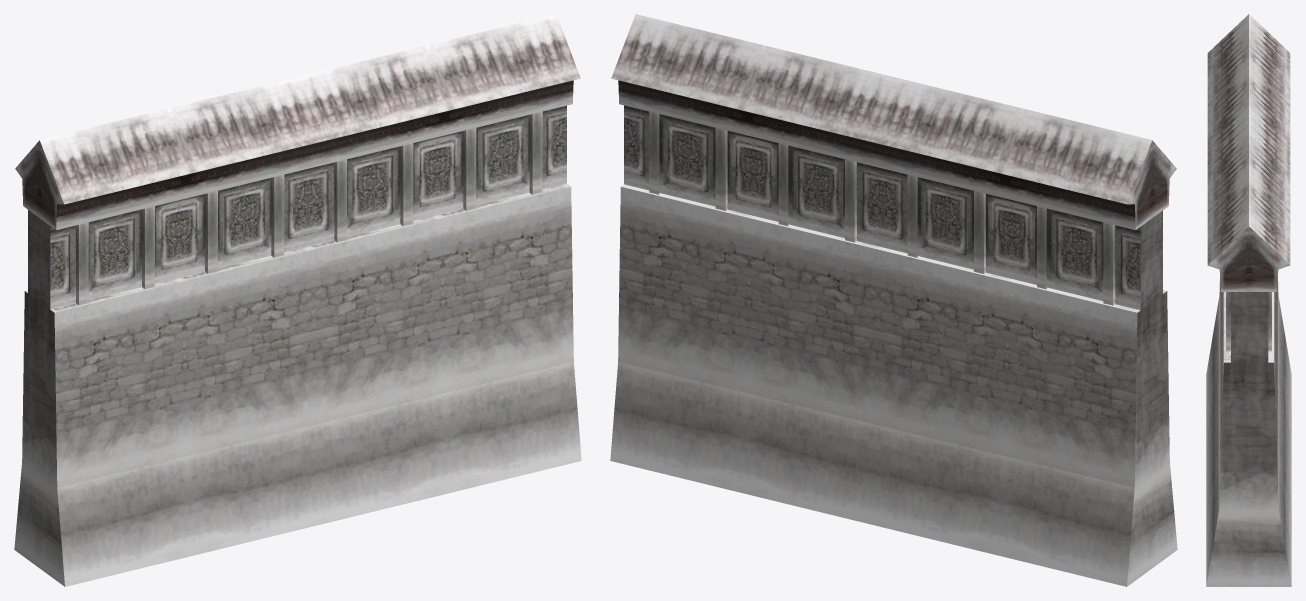
File: snow-middledam-02_lod_01.glb
3 renders of one model, left to right at view 1: azimuth 30°, elevation 25°; view 2: azimuth 150°, elevation 25°; view 3: azimuth 270°, elevation 25°, orthographic. The views are drawn at different scales.
Parts seen in each view (by area): view 1: snow-middledam-02; view 2: snow-middledam-02; view 3: snow-middledam-02.
Boxes of the visible parts, x1,y1,x2,y2 form: snow-middledam-02: (14,14,581,586); snow-middledam-02: (610,14,1177,586); snow-middledam-02: (1206,14,1291,586).
Bounding box in the file's own units: 10 × 7.92 × 1.7.
1 material, 1 textured.
